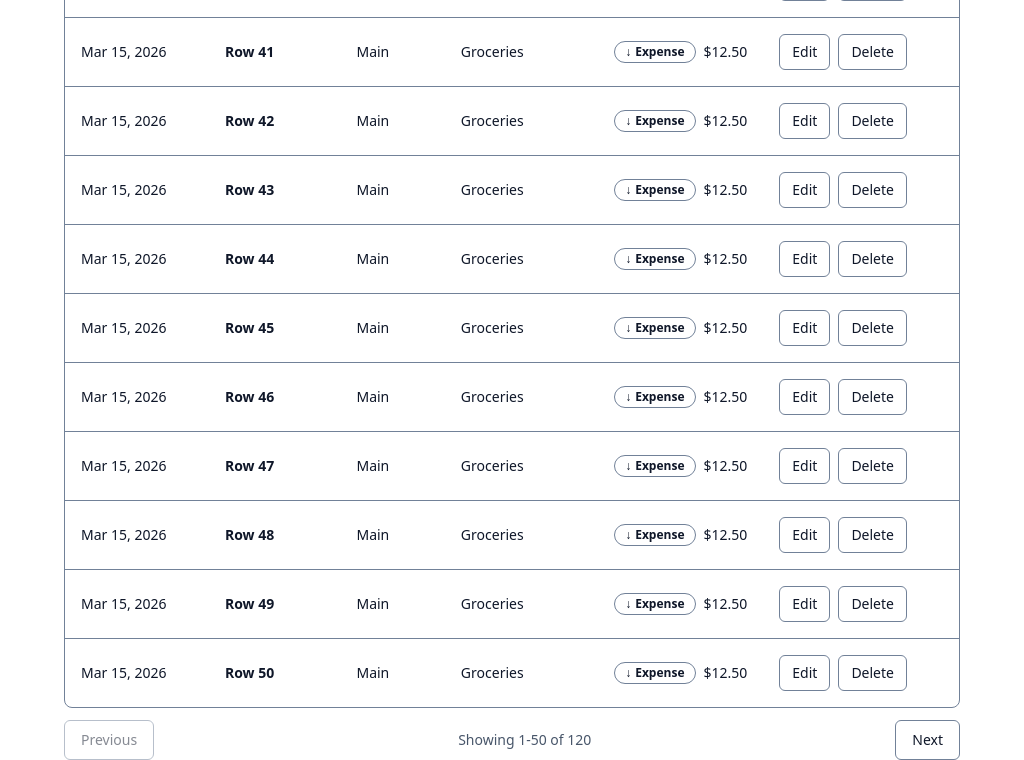
Test case: TransactionsPage › T-032 Previous and Next move the offset by the limit and the range and total are shown
(page scrolled)
Expected: the text "Showing 1-50 of 120" is shown, [458,730,591,750]
Expected: the button "Previous" is disabled, [64,720,154,759]
Click the button "Next". click: (928, 740)
box: [895,720,960,759]
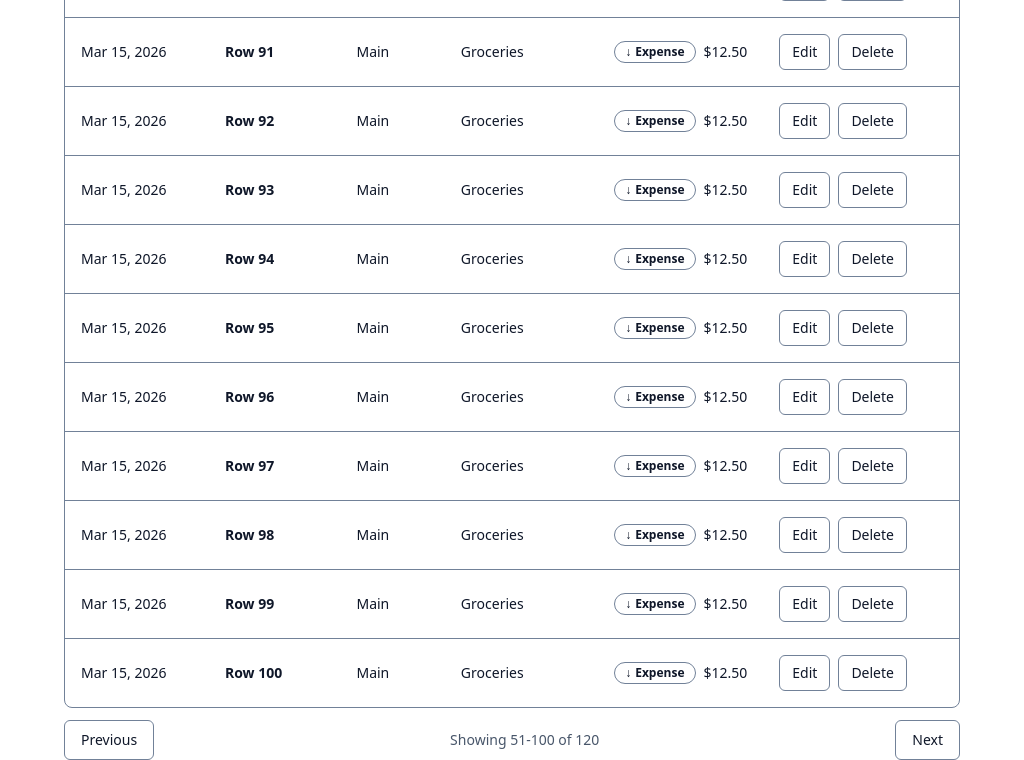
Expected: the text "Showing 51-100 of 120" is shown, [450,730,599,750]
Click the button "Next". click: (928, 740)
box: [895,720,960,759]
(page scrolled)
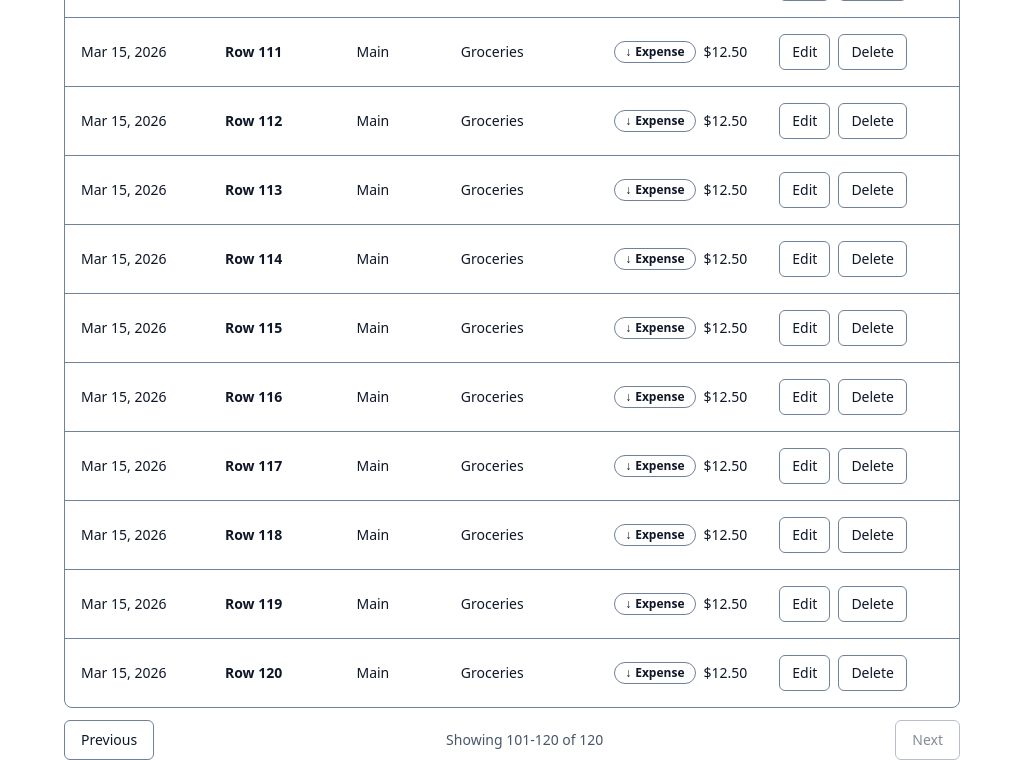
Expected: the text "Showing 101-120 of 120" is shown, [446,730,603,750]
Expected: the button "Next" is disabled, [895,720,960,759]
Click the button "Previous". click: (109, 740)
box: [64,720,154,759]
(page scrolled)
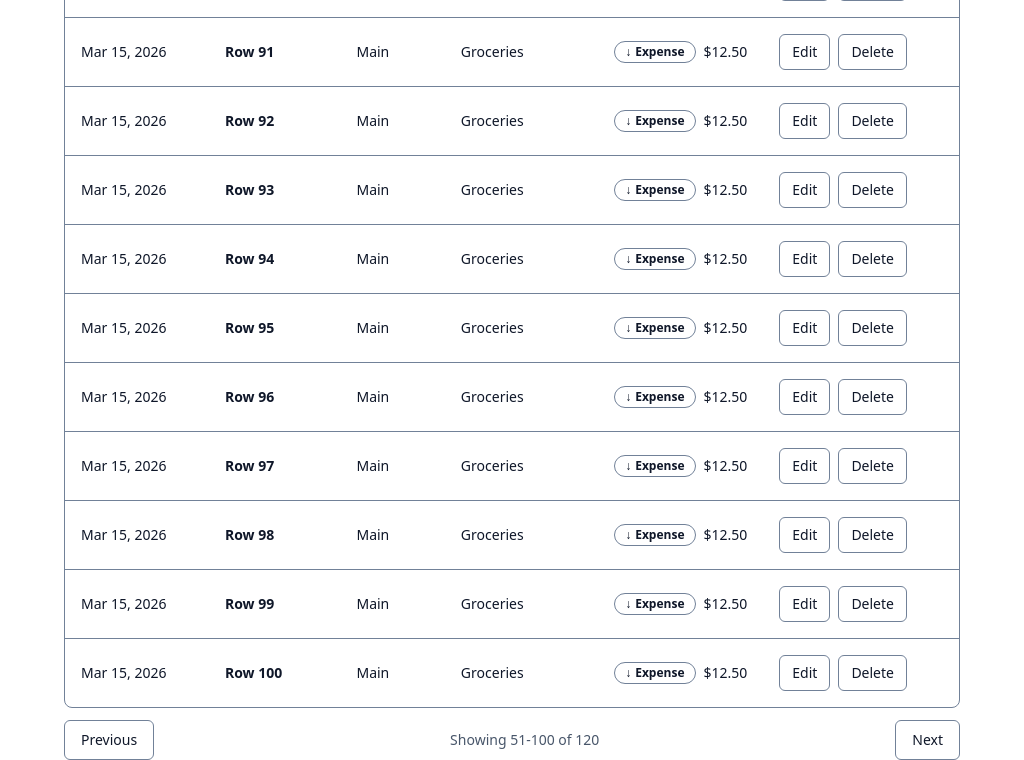
Expected: the text "Showing 51-100 of 120" is shown, [450,730,599,750]
